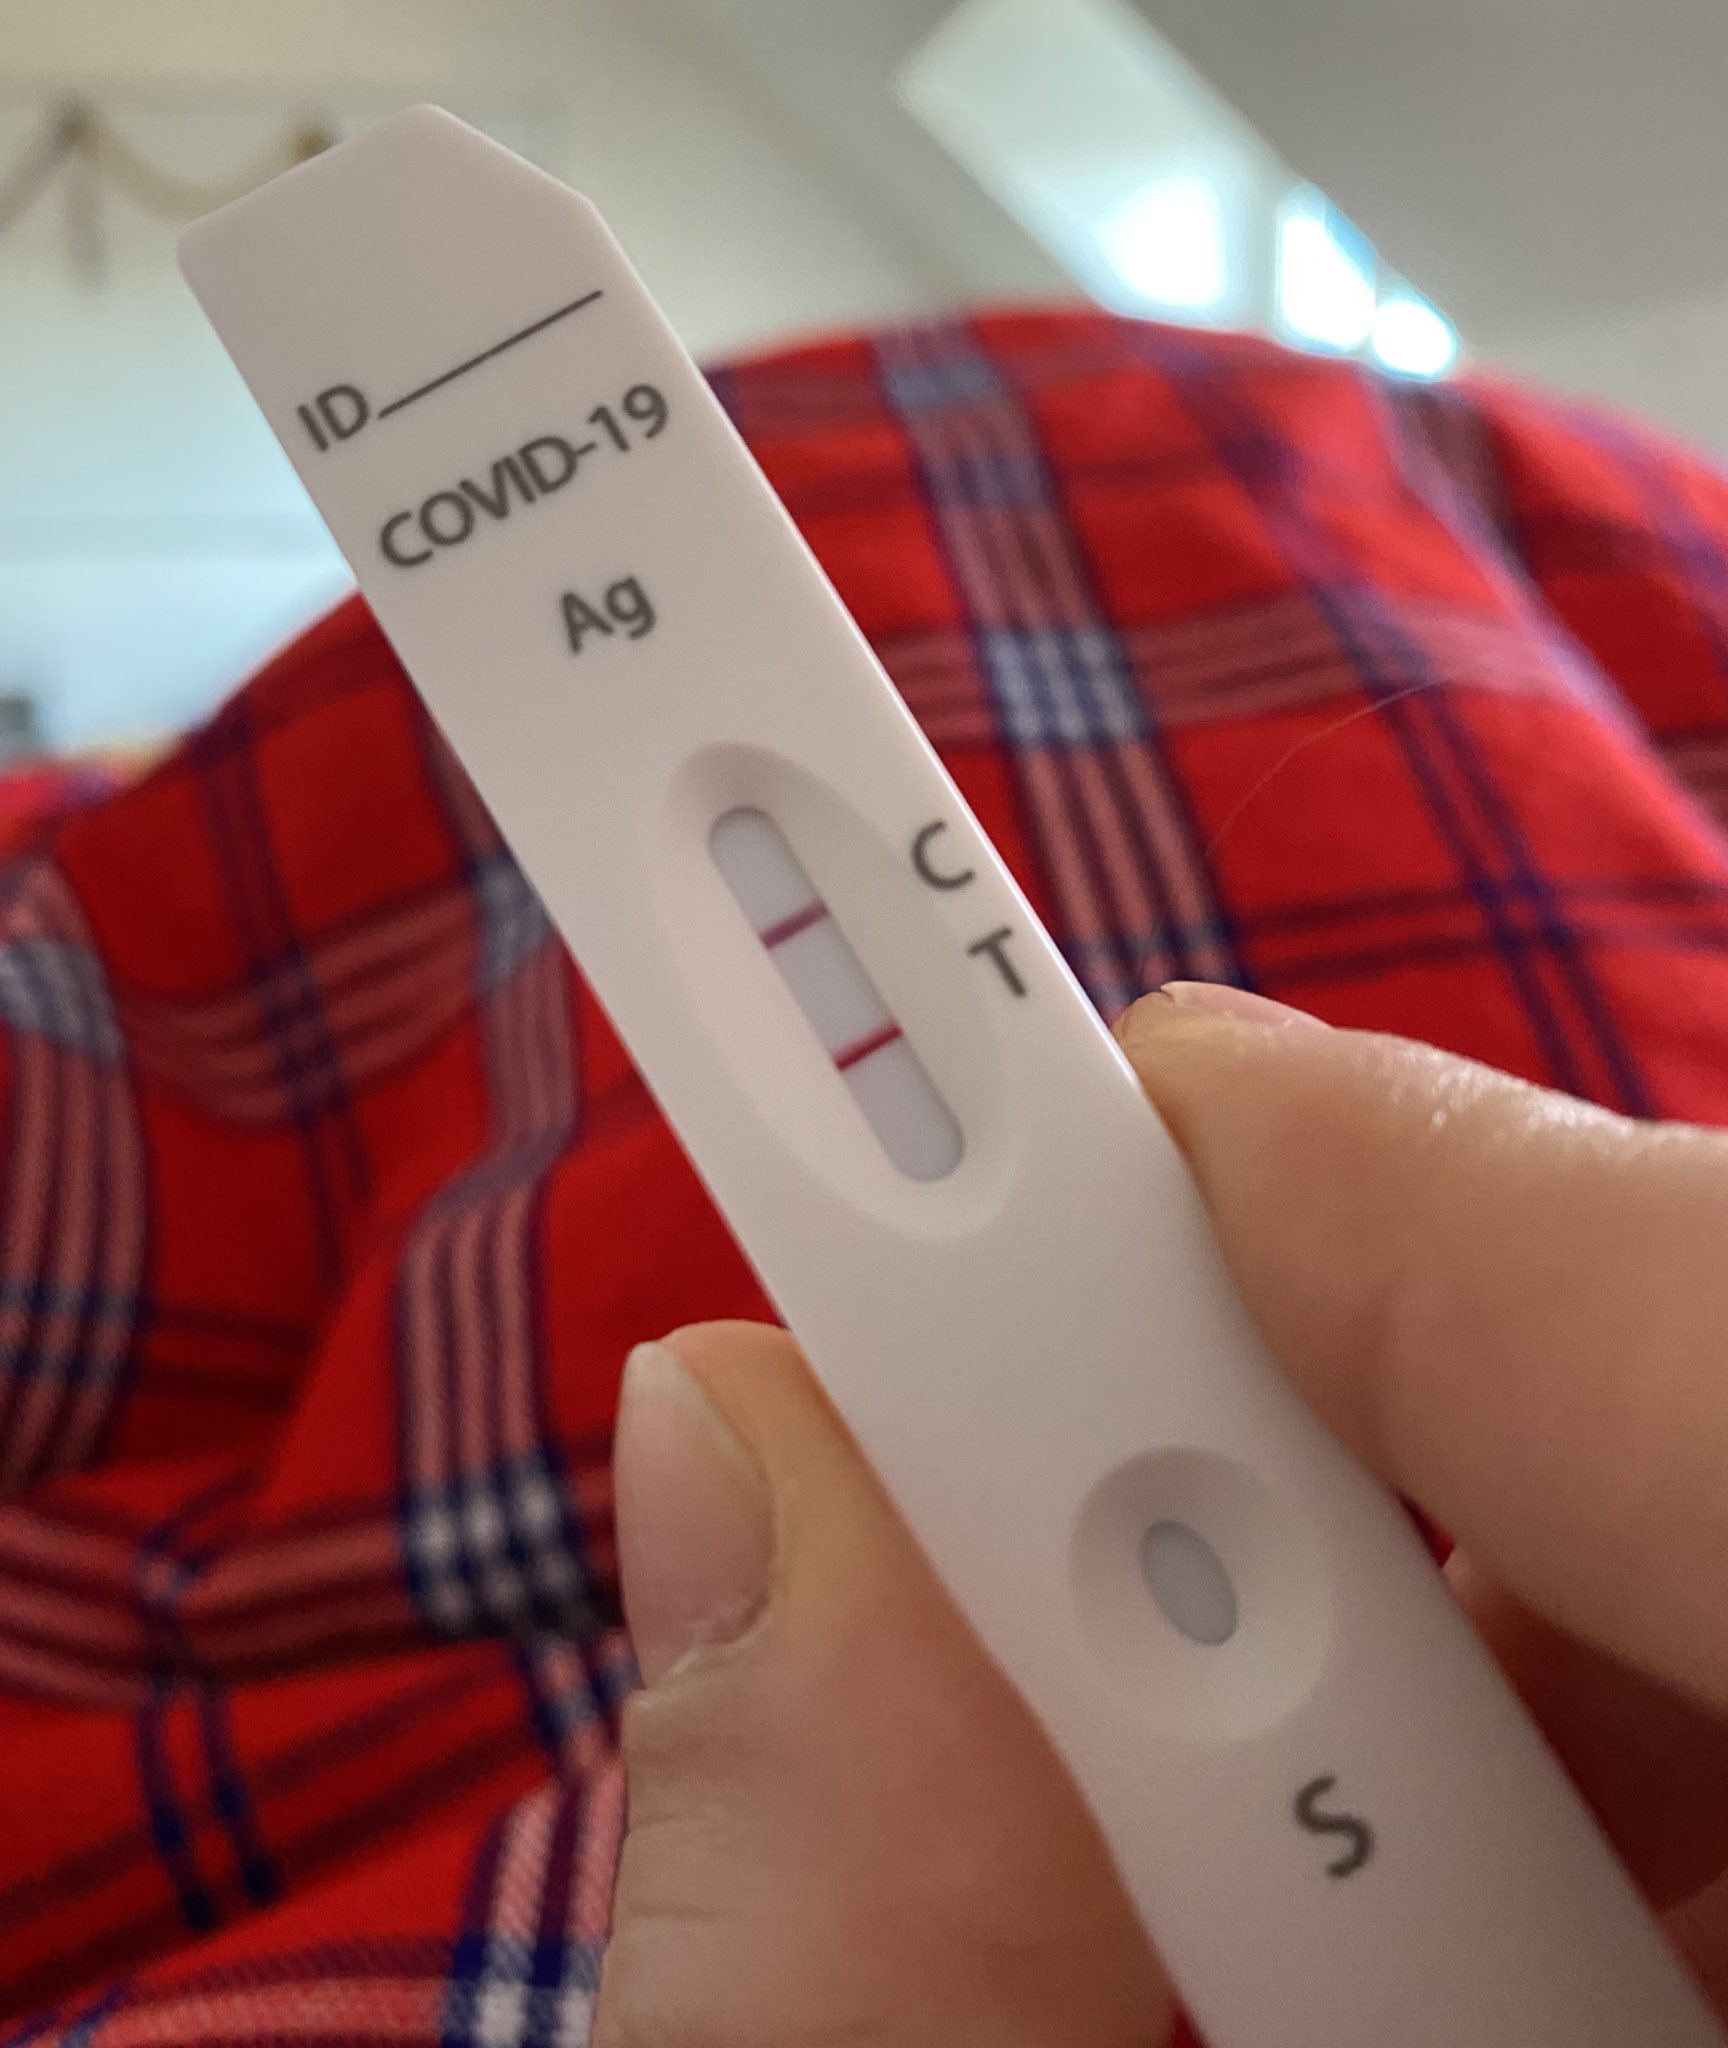positive: (675, 783, 939, 1195)
